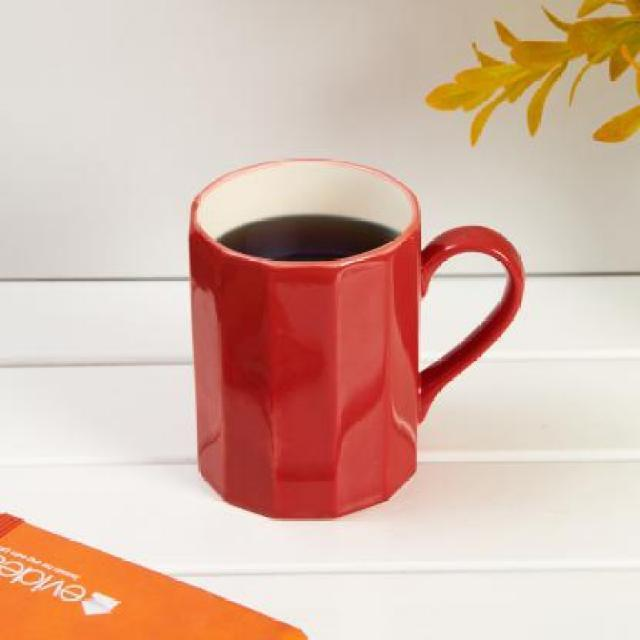taza: (185, 158, 525, 524)
